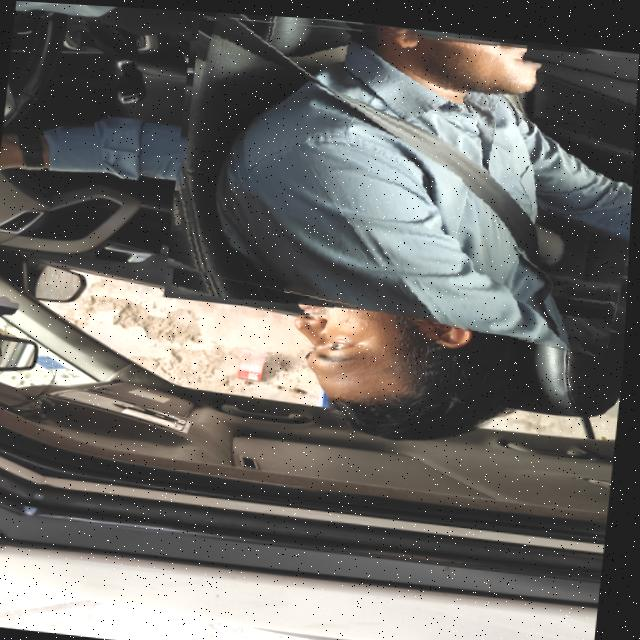seatbelt: (165, 8, 640, 341)
